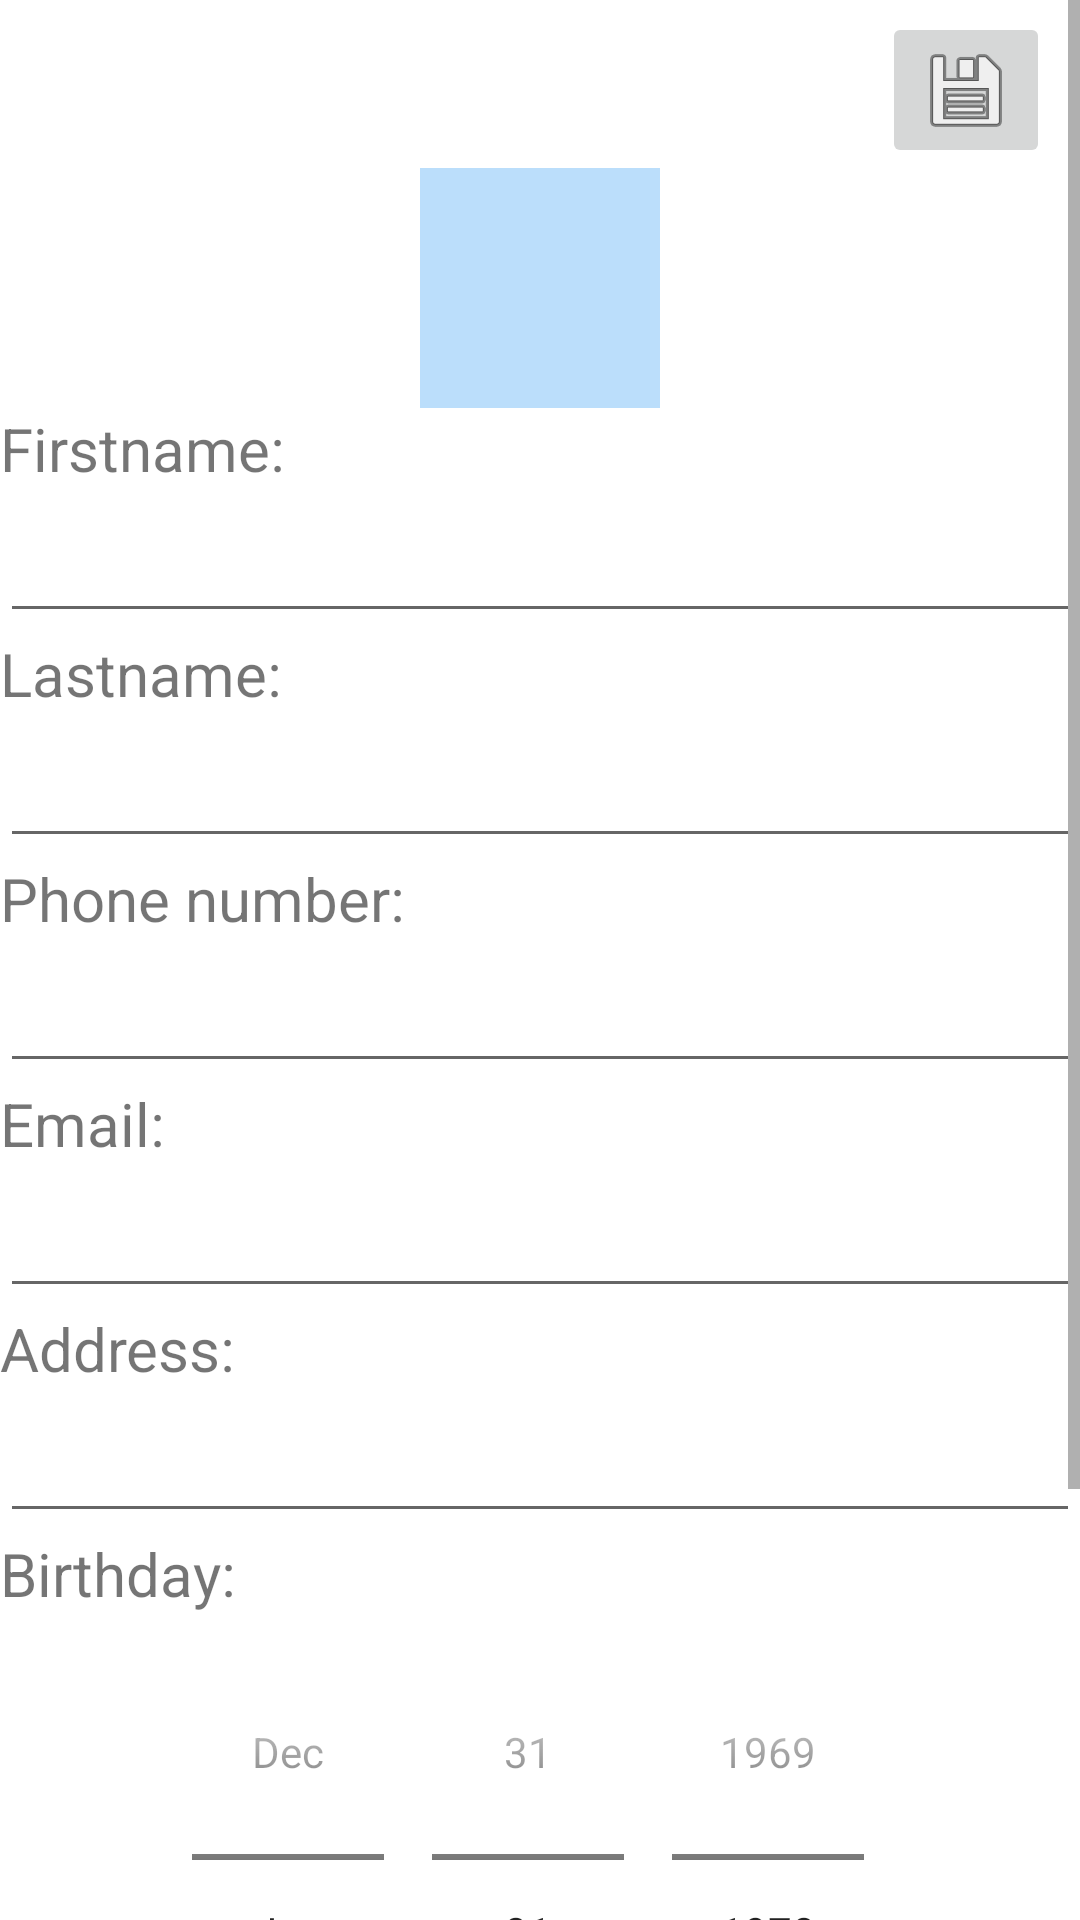

Screen size 1080*1920. Icon name, then its box in pixels as Rect(x1, y1, x2, y2):
save: Rect(894, 30, 1038, 150)
